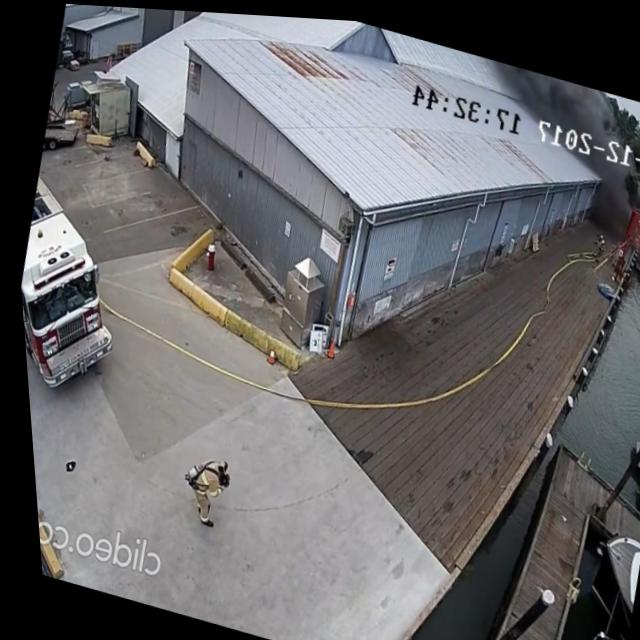fire: (617, 206, 640, 256)
